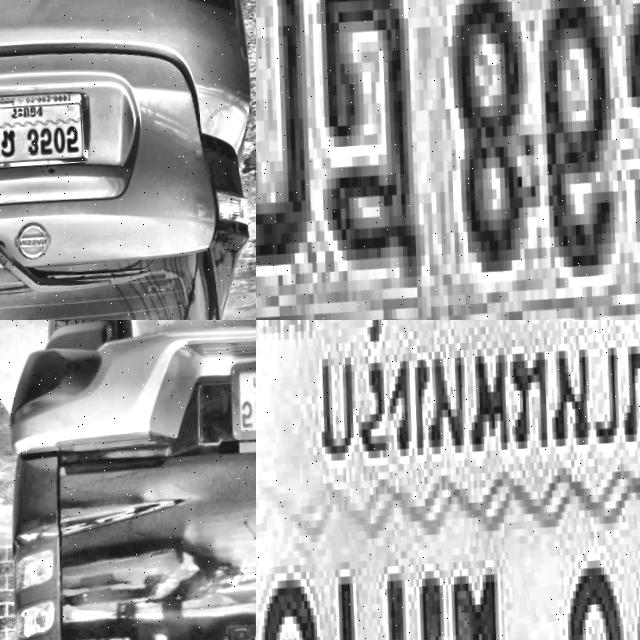license-plate: (256, 0, 640, 320), (256, 320, 640, 640), (0, 82, 96, 185), (227, 360, 256, 448)
